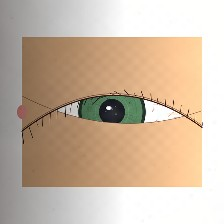pterygium_lesion: (160, 95, 201, 129)
